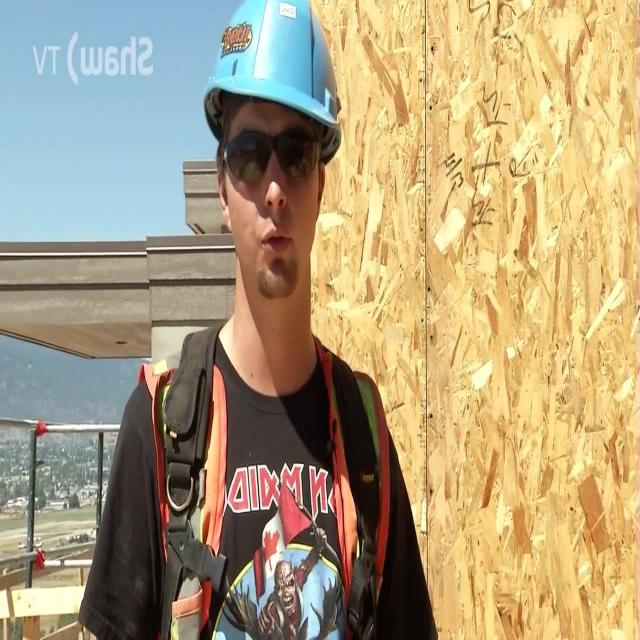Reflective-Jacket: (126, 320, 402, 640)
Safety-Helmet: (200, 0, 346, 163)
